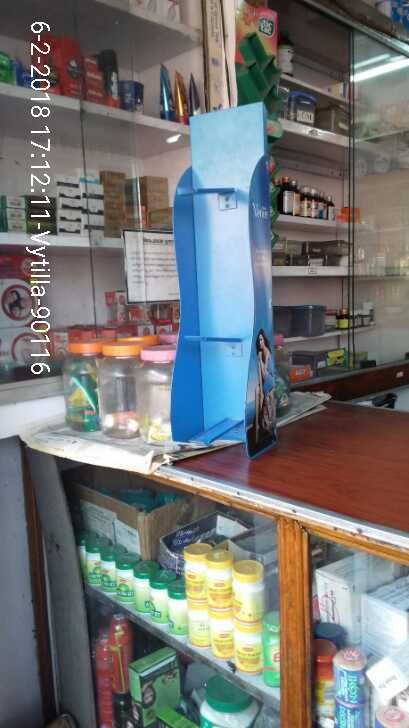reject: (78, 196, 256, 343)
